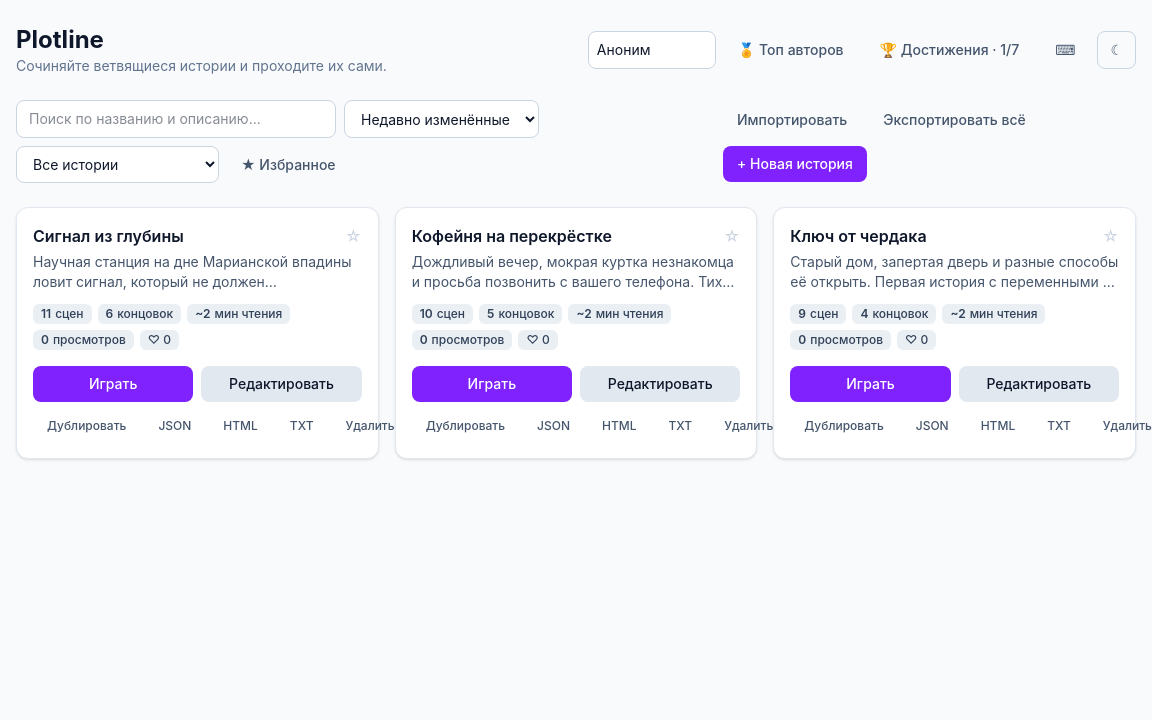
Scenario: LibraryScreen › cancels deletion without removing the story when "Отмена" is clicked
The width and height of the screenshot is (1152, 720).
Click the button "Удалить" below "Ключ от чердака": (1120, 426) [1089,410,1151,442]
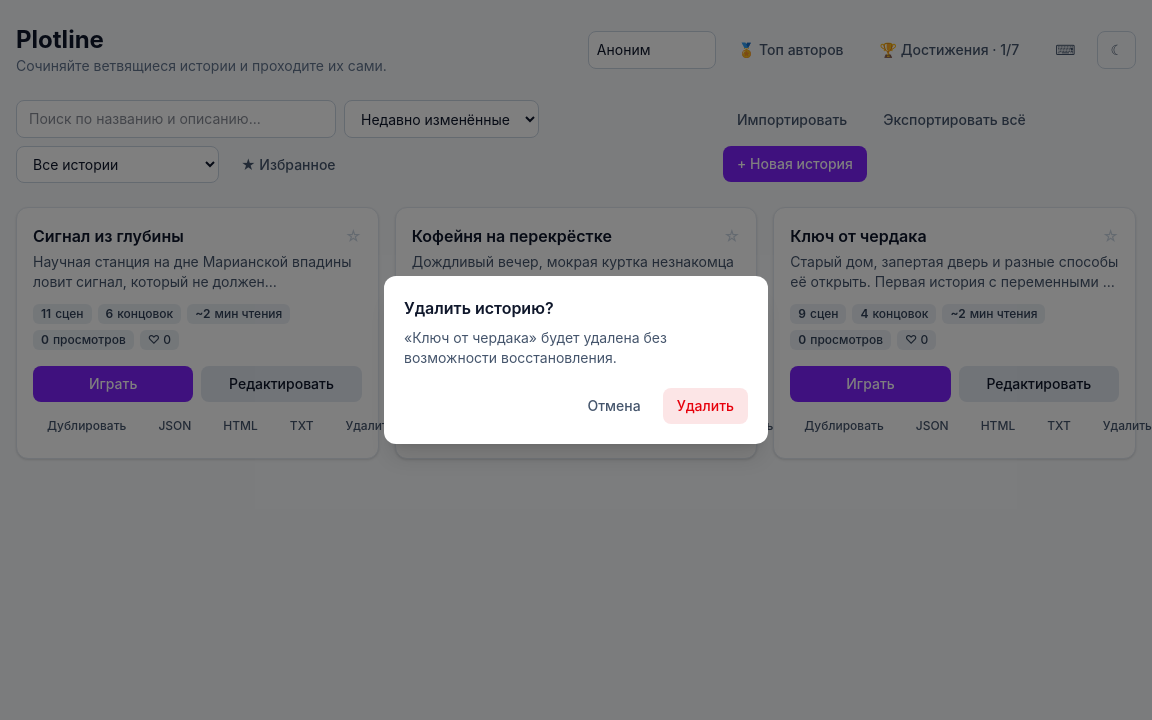
Click the button "Отмена": (614, 406) [574,388,655,424]
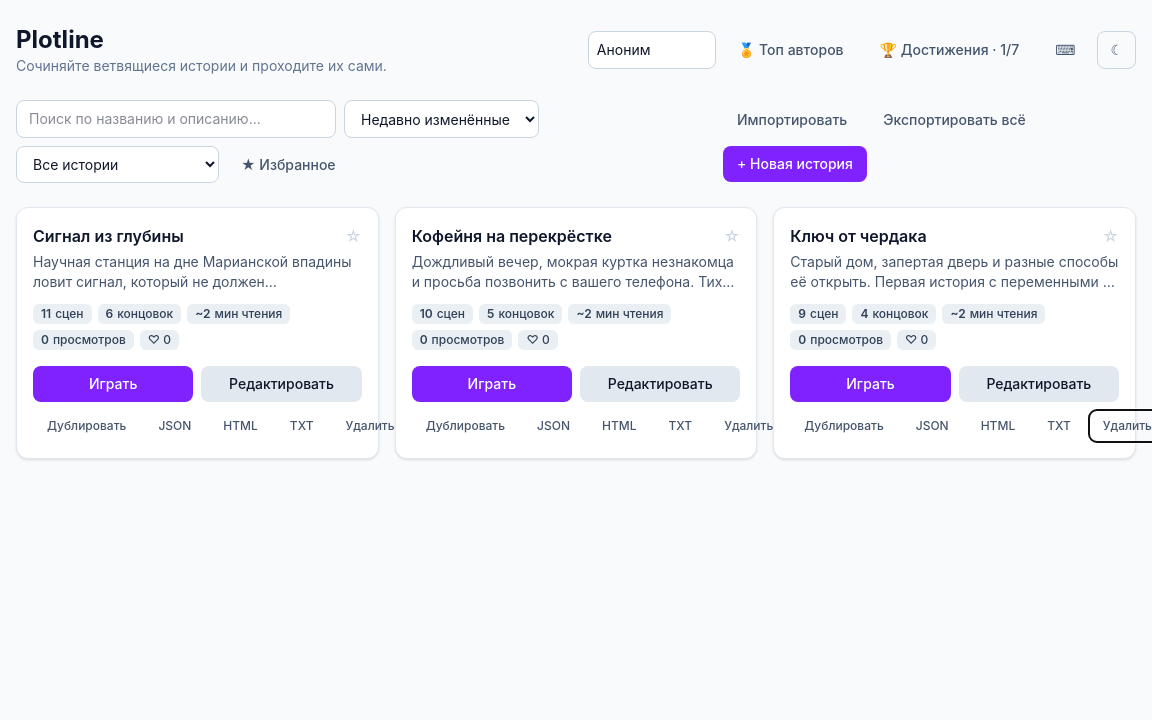
Now the heading "Удалить историю?" is gone
